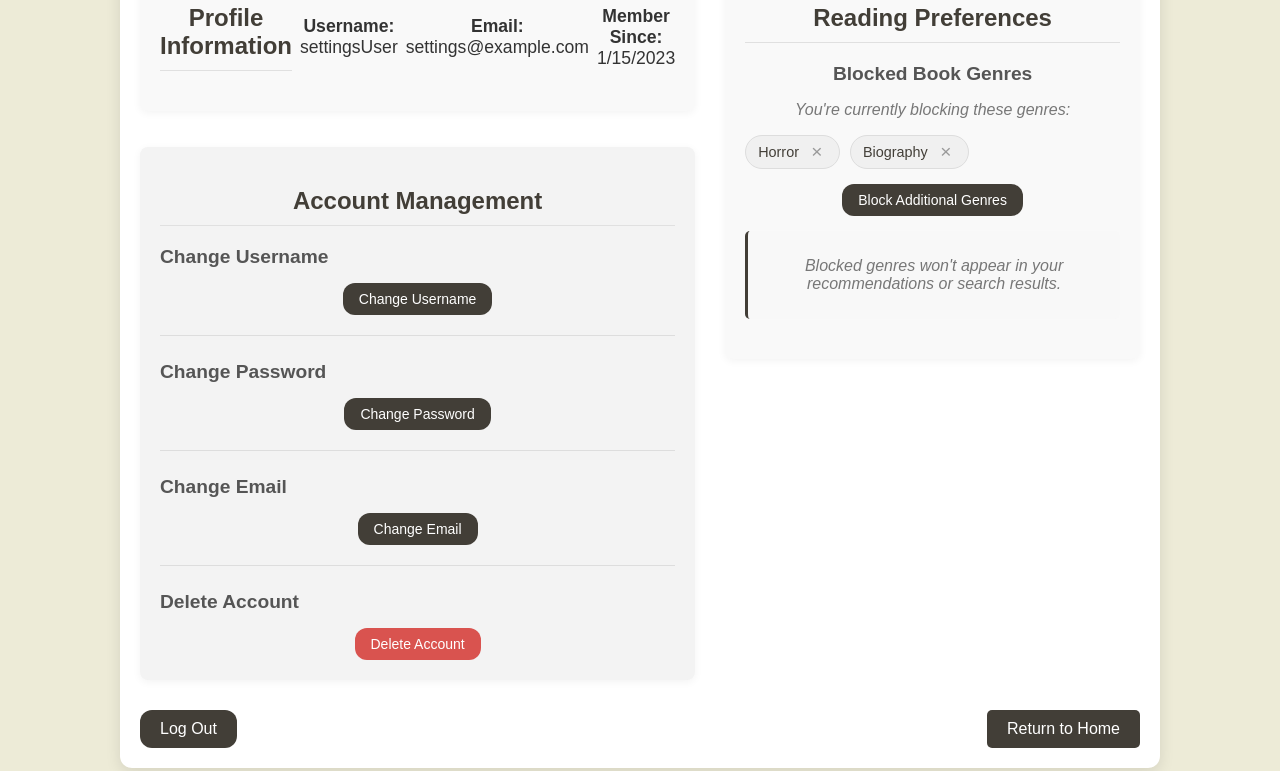
Test: Settings Component › shows error message when account deletion fails
The image size is (1280, 771).
(page scrolled)
Click the button "Delete Account".
click(418, 644)  # box [354,628,481,660]
(page scrolled)
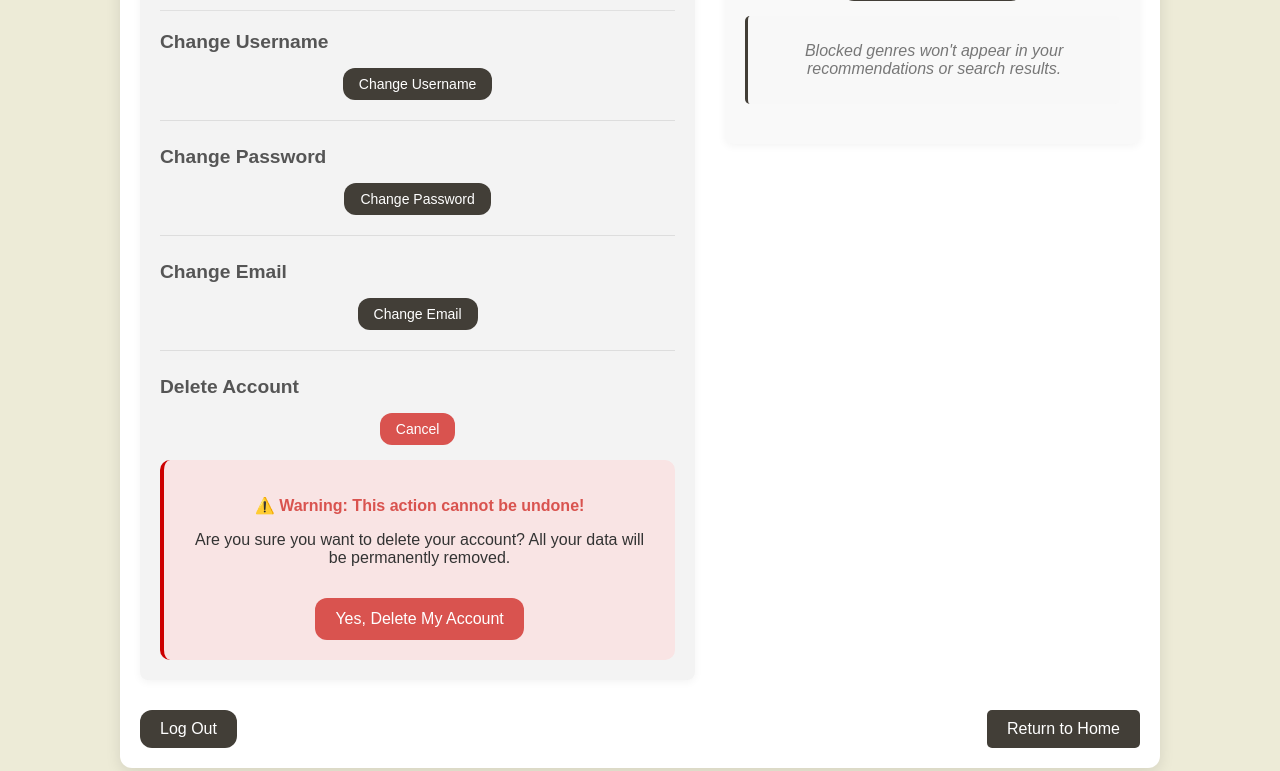
Click the button "Yes, Delete My Account".
click(420, 619)  # box [315,598,524,640]
(page scrolled)
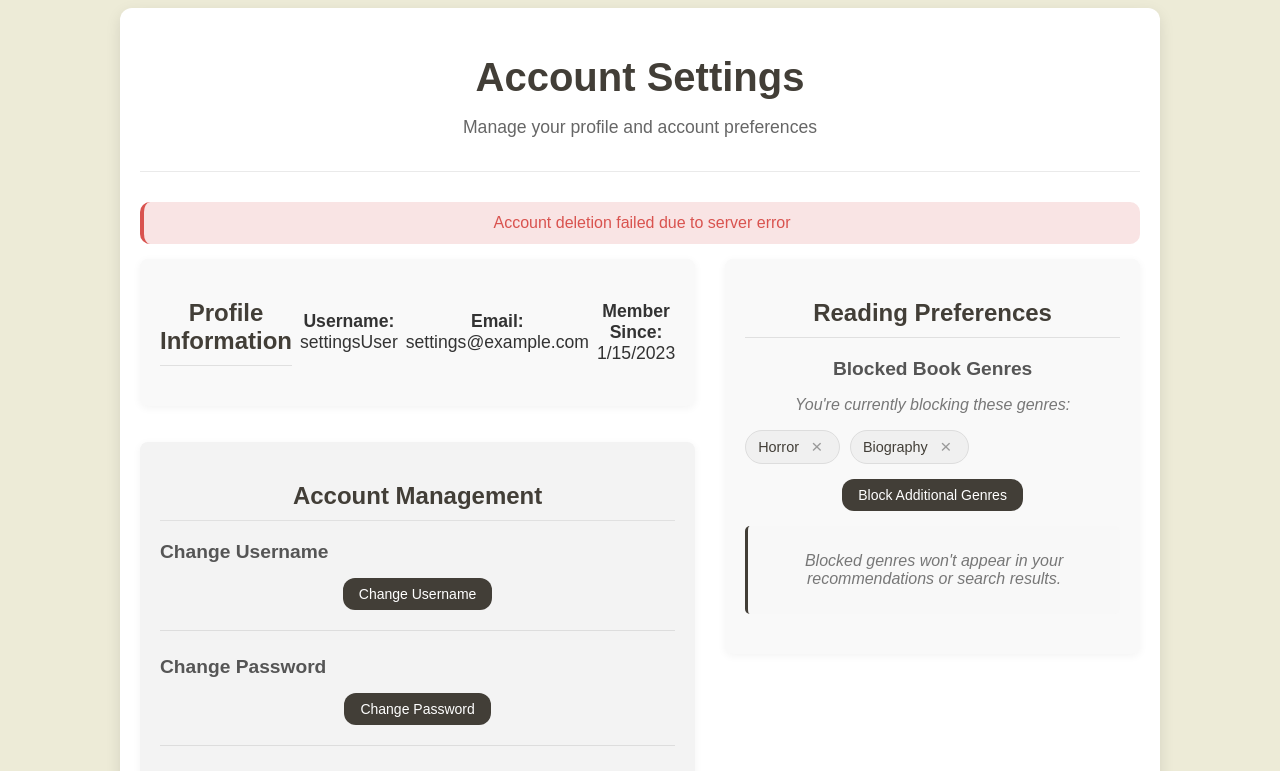
Result: the text "Account deletion failed due to server error" is shown at [140,202,1140,244]
